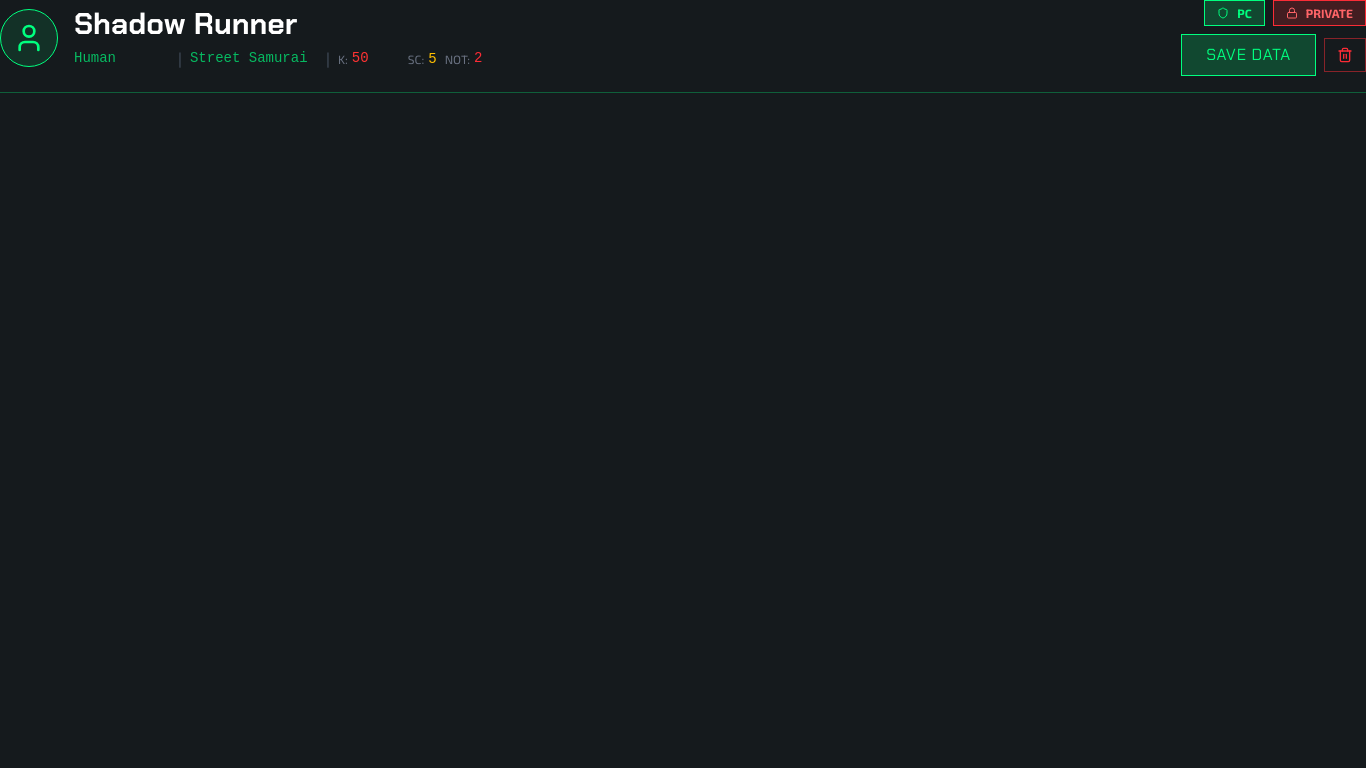
CharacterSheetHeader Component › requires typing character name to confirm deletion
This screenshot has width=1366, height=768.
Click the button titled "Delete Character": (1345, 55) [1324,38,1365,72]
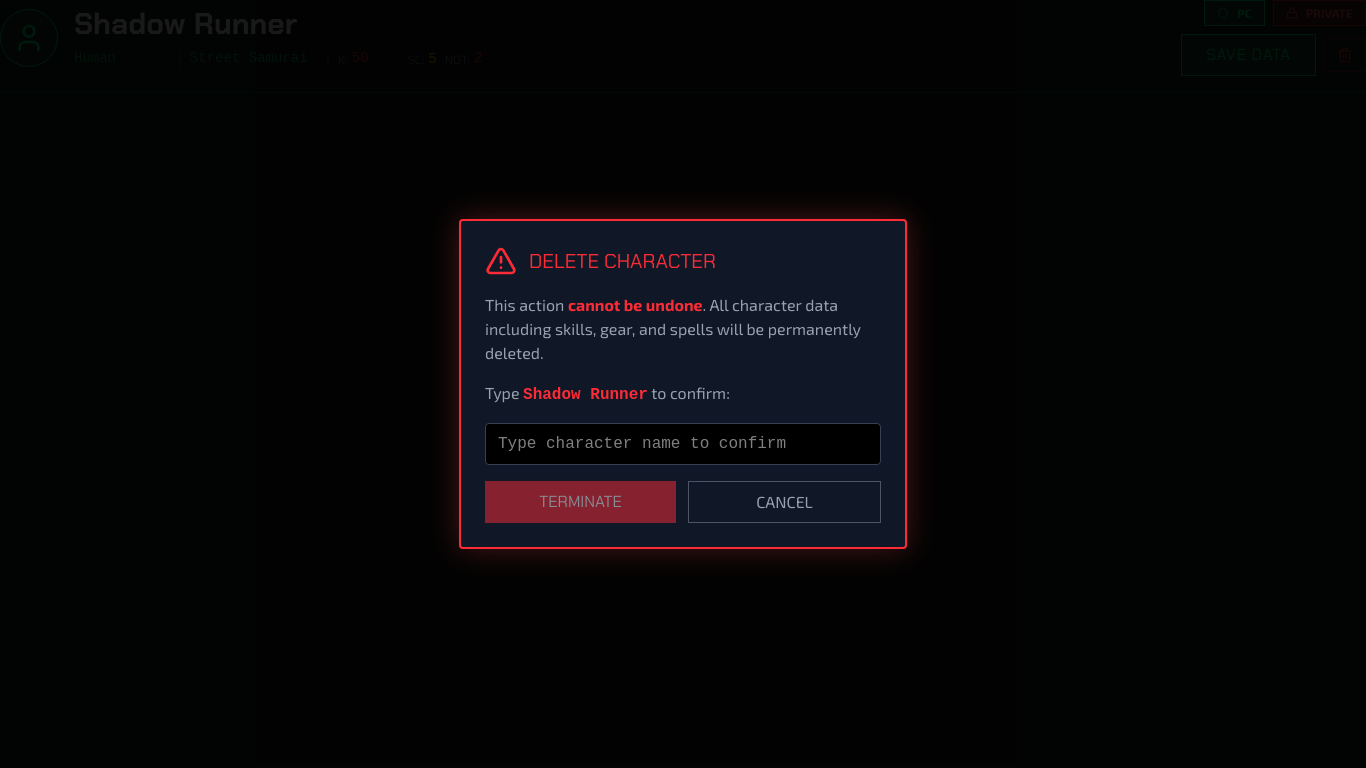
Expected: the button "TERMINATE" is disabled, [485,481,676,523]
In the field with placeholder "Type character name to confirm": (683, 444) [485,423,881,465], type "Shadow Runner"
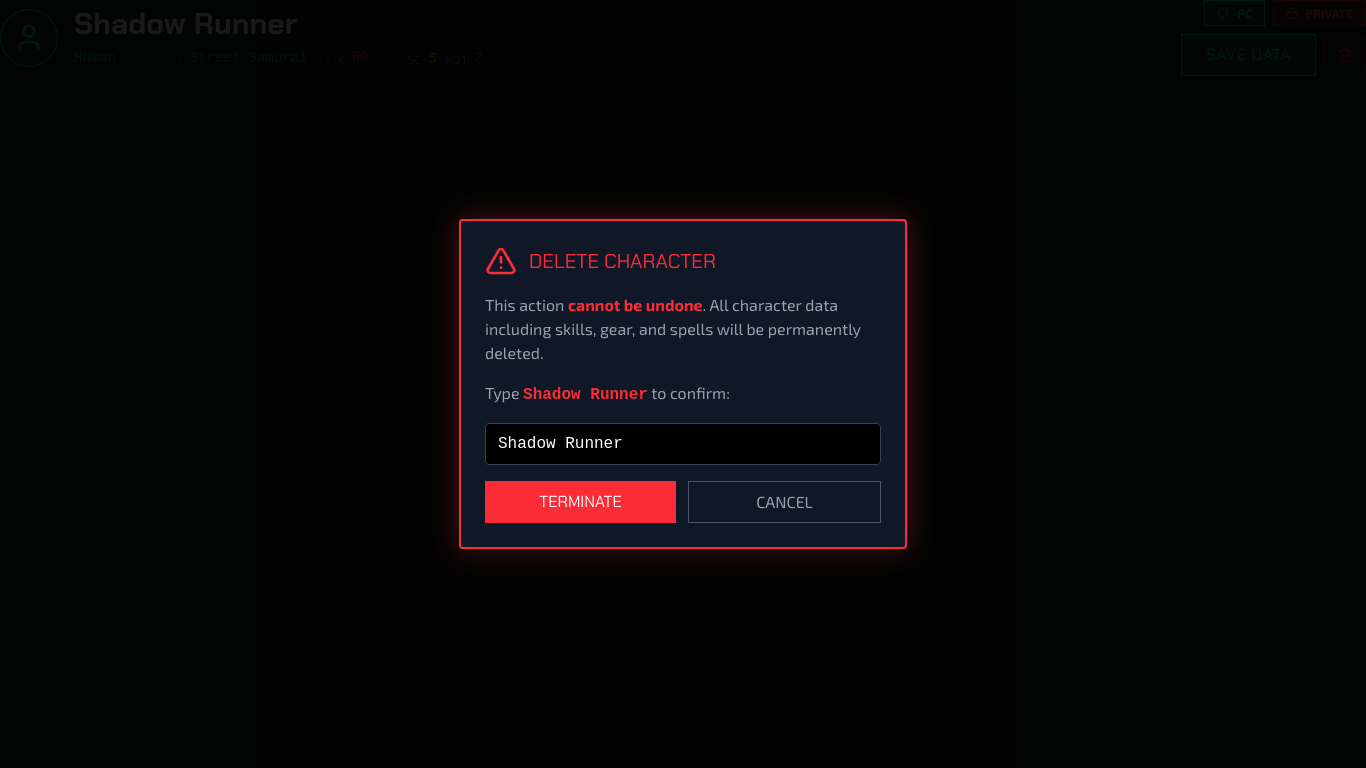
Expected: the button "TERMINATE" is enabled, [485,481,676,523]
